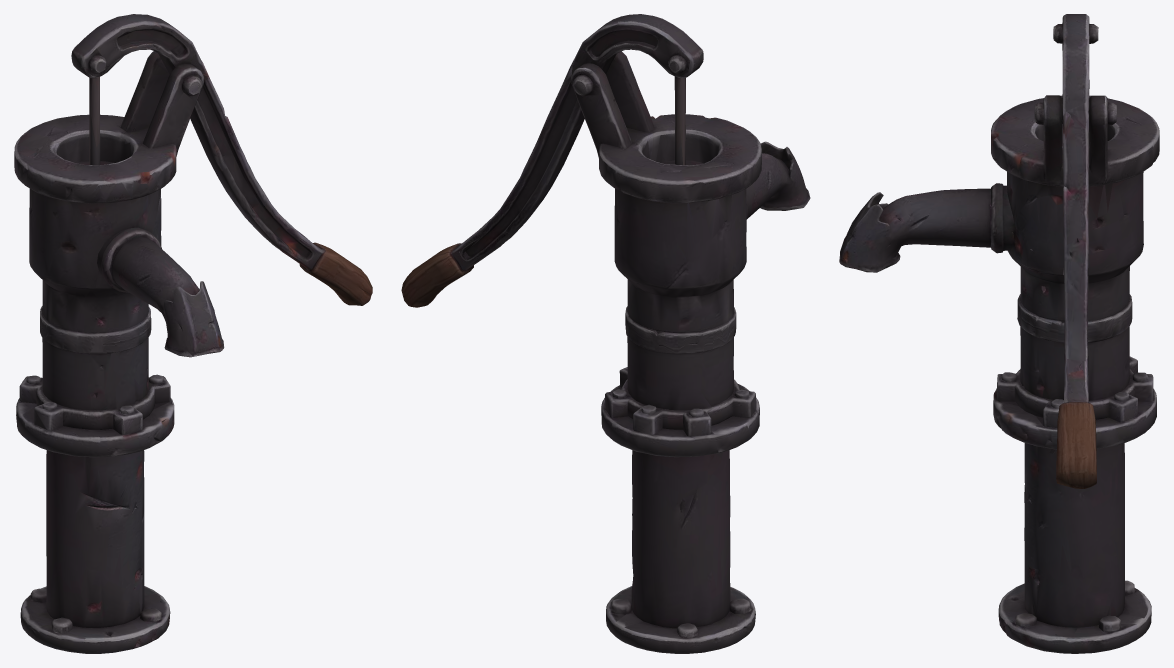
Rendered from water_pump_ruchnoy_rychazhnyy.glb.
3 renders of one model, left to right at view 1: azimuth 30°, elevation 25°; view 2: azimuth 150°, elevation 25°; view 3: azimuth 270°, elevation 25°, orthographic. The views are drawn at different scales.
Visible parts, largest first — view 1: body, lever; view 2: body, lever; view 3: body, lever.
Boxes of the visible parts, x1,y1,x2,y2 form: body: (14, 51, 224, 653); lever: (71, 14, 372, 305); body: (571, 51, 810, 653); lever: (401, 14, 703, 307); body: (839, 94, 1159, 653); lever: (1053, 14, 1098, 488).
Bounding box in the file's own units: 0.3612 × 0.5997 × 0.282.
Materials: 3 (3 with a texture image).
